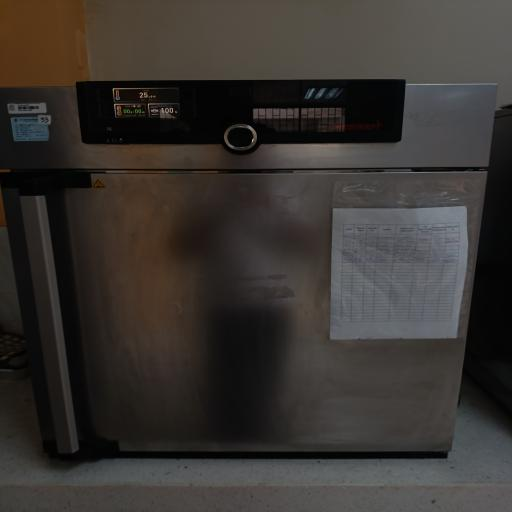Memmert_Unidad2: (4, 75, 503, 471)
